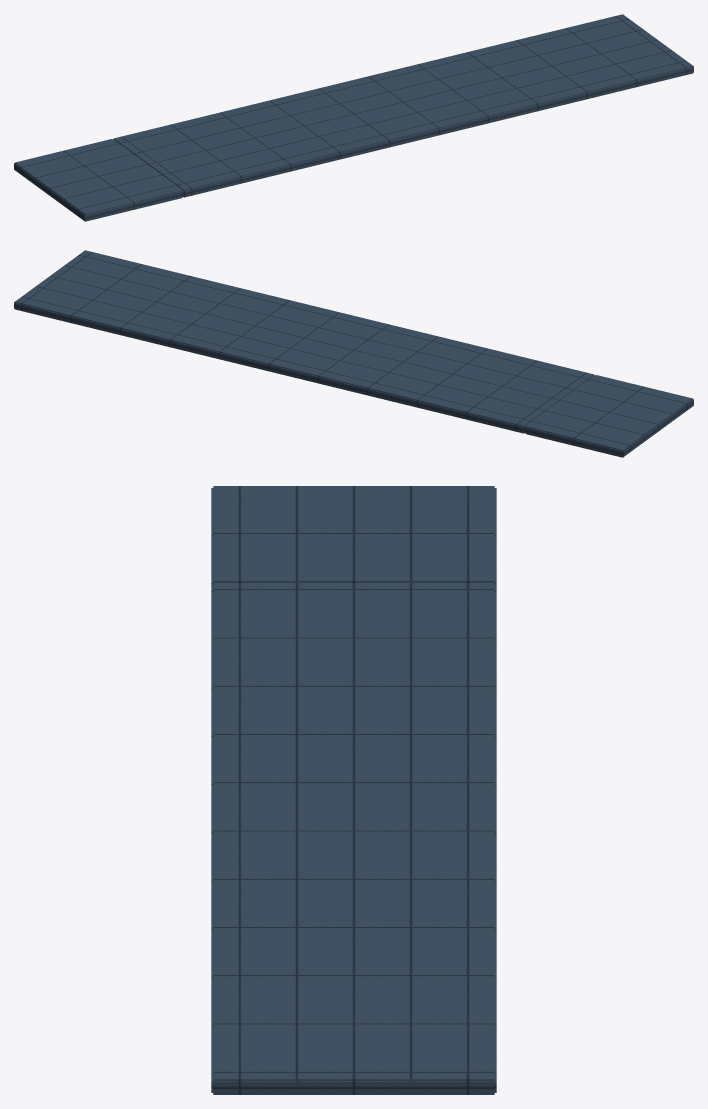
Rendered from v02-detailed--1-06.glb.
3 renders of one model, top to bottom at view 1: azimuth 30°, elevation 25°; view 2: azimuth 150°, elevation 25°; view 3: azimuth 270°, elevation 25°, orthographic. The views are drawn at different scales.
Parts seen in each view (by area): view 1: v02-detailed--1-06; view 2: v02-detailed--1-06; view 3: v02-detailed--1-06.
Part boxes in pixels (bbox=[...]): v02-detailed--1-06: bbox=[14, 14, 693, 221]; v02-detailed--1-06: bbox=[14, 250, 693, 457]; v02-detailed--1-06: bbox=[211, 486, 496, 1094].
Size of the model in its own units: 14.8 by 0.18 by 3.
1 material, 1 textured.
